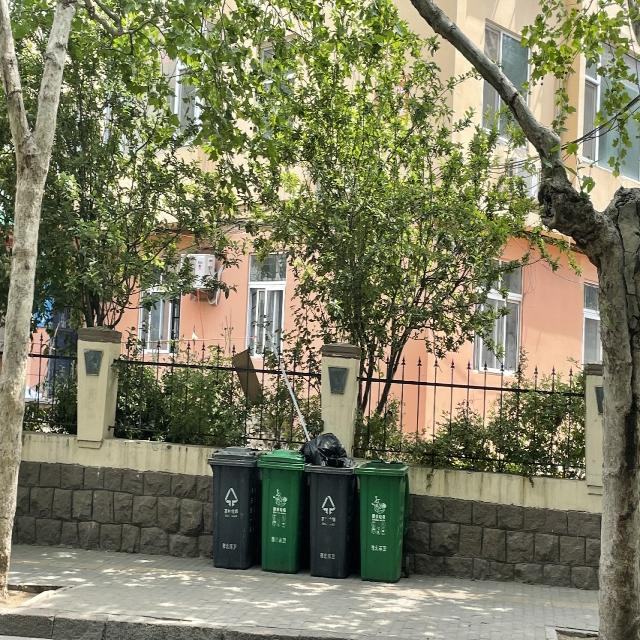garbage_bin: (354, 458, 408, 583), (207, 445, 260, 569), (256, 448, 302, 573)
overflow: (300, 432, 356, 579)
